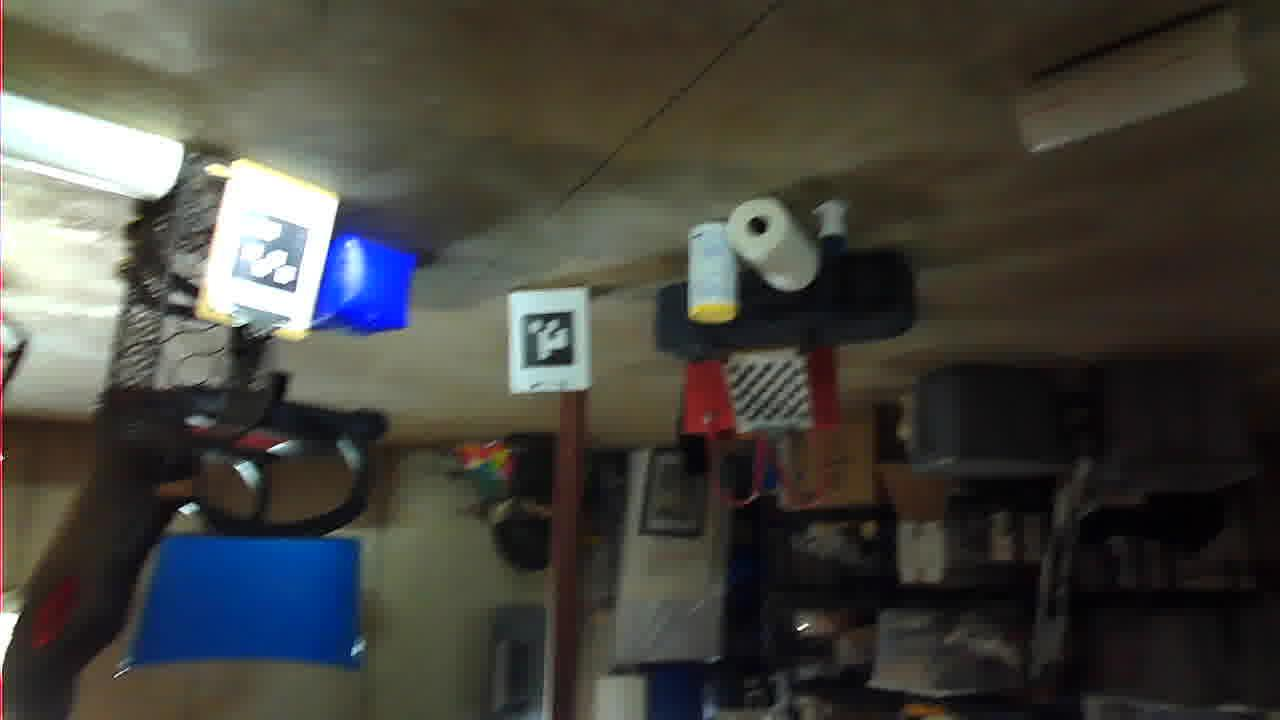coral: (31, 566, 263, 711), (1097, 519, 1279, 631)
